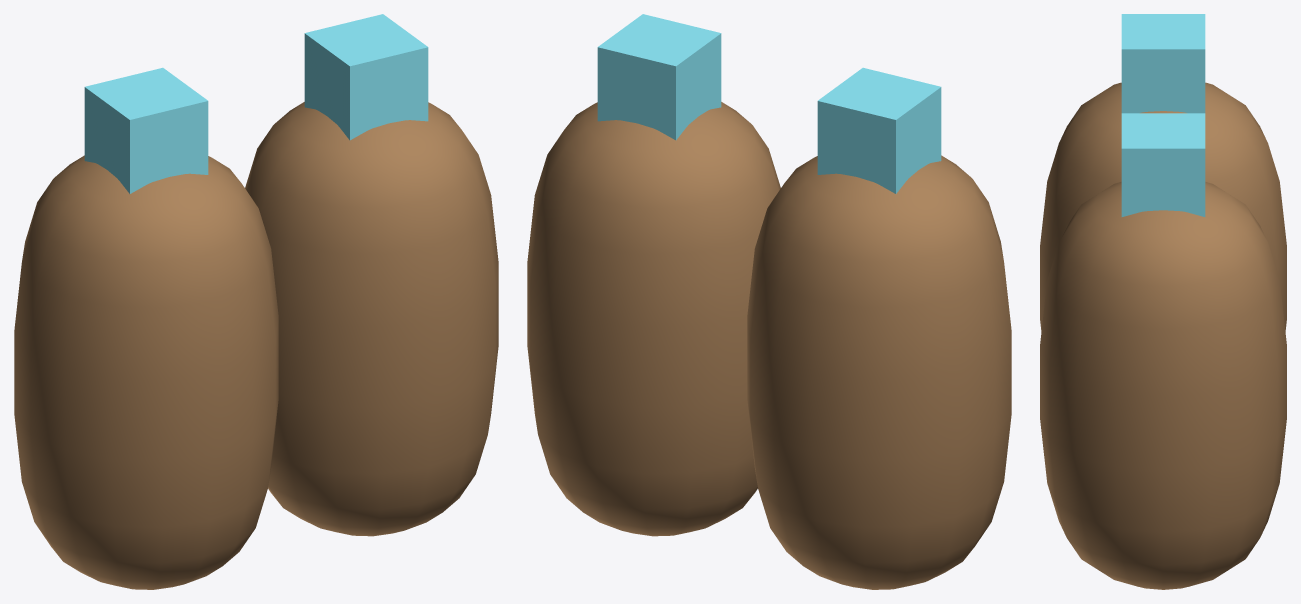
The model's file is CRP_final.glb.
The picture shows the model from 3 angles, left to right: view 1: azimuth 30°, elevation 25°; view 2: azimuth 150°, elevation 25°; view 3: azimuth 270°, elevation 25°; orthographic projection. The views are drawn at different scales.
Visible parts, largest first — view 1: Sphere.001, Sphere.002, Cube.001, Cube; view 2: Sphere.001, Sphere.002, Cube.001, Cube; view 3: Sphere.002, Sphere.001, Cube.001, Cube.
Boxes of the visible parts, x1,y1,x2,y2 form: Sphere.001: [14, 155, 278, 589]; Sphere.002: [245, 102, 498, 536]; Cube.001: [304, 14, 428, 140]; Cube: [84, 67, 208, 193]; Sphere.001: [747, 155, 1011, 589]; Sphere.002: [527, 102, 780, 536]; Cube.001: [597, 14, 721, 140]; Cube: [817, 67, 941, 193]; Sphere.002: [1040, 182, 1286, 589]; Sphere.001: [1040, 82, 1286, 331]; Cube.001: [1121, 113, 1205, 216]; Cube: [1121, 14, 1205, 113].
Bounding box in the file's own units: 0.5742 × 0.5883 × 0.2942.
